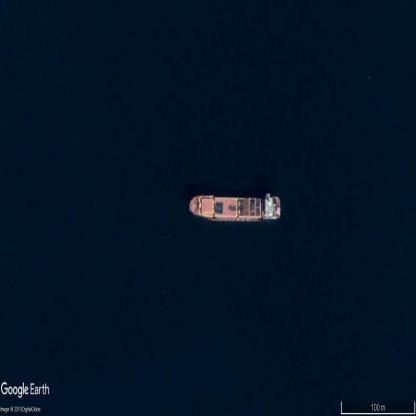ship: (189, 194, 281, 222)
